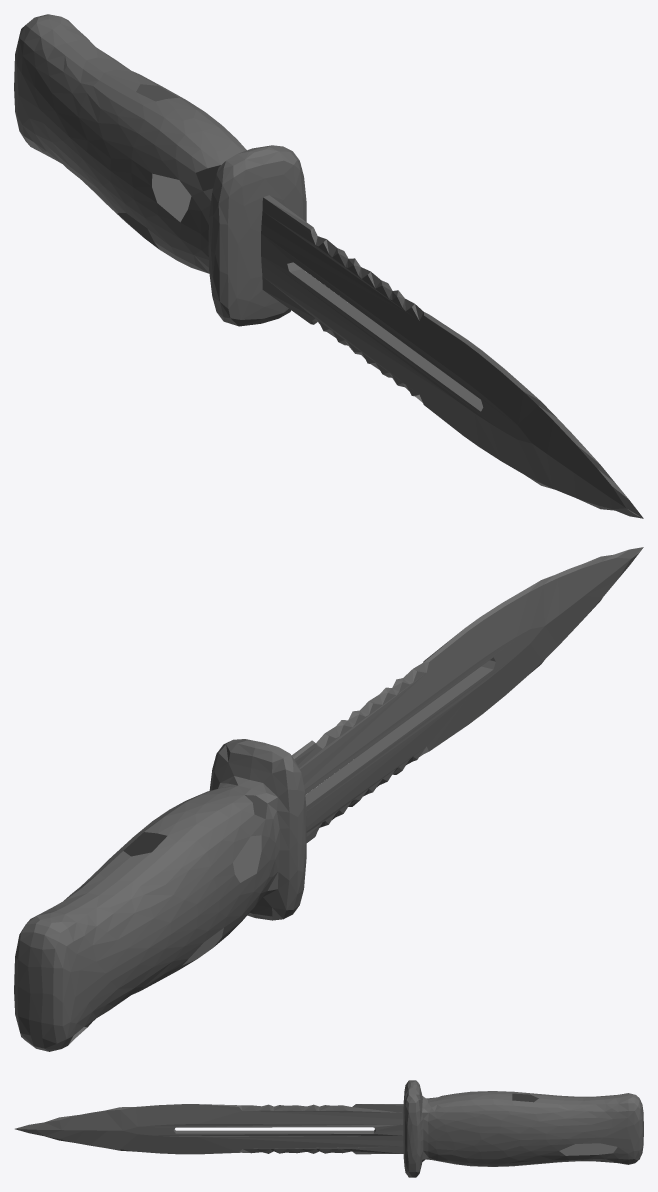
File: model_align.obj
The picture shows the model from 3 angles, top to bottom: view 1: azimuth 30°, elevation 25°; view 2: azimuth 150°, elevation 25°; view 3: azimuth 270°, elevation 25°; orthographic projection. The views are drawn at different scales.
Bounding box in the file's own units: 0.0204 × 0.0371 × 0.2373.
Materials: 2 (2 with a texture image).
